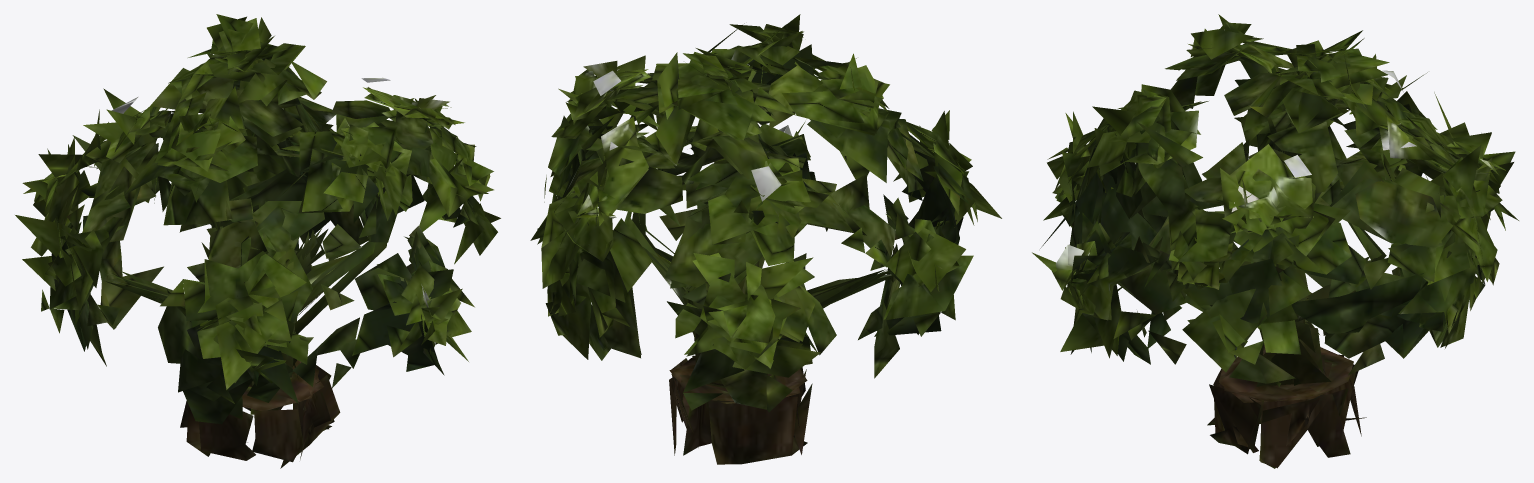
Rendered from bush.glb.
The picture shows the model from 3 angles, left to right: view 1: azimuth 30°, elevation 25°; view 2: azimuth 150°, elevation 25°; view 3: azimuth 270°, elevation 25°; orthographic projection. The views are drawn at different scales.
Parts seen in each view (by area): view 1: geometry_0; view 2: geometry_0; view 3: geometry_0.
Part boxes in pixels (<box>): geometry_0: <box>15,14,500,468</box>; geometry_0: <box>530,14,1001,464</box>; geometry_0: <box>1032,14,1518,468</box>.
Size of the model in its own units: 0.9994 by 0.893 by 0.9608.
1 material, 1 textured.
